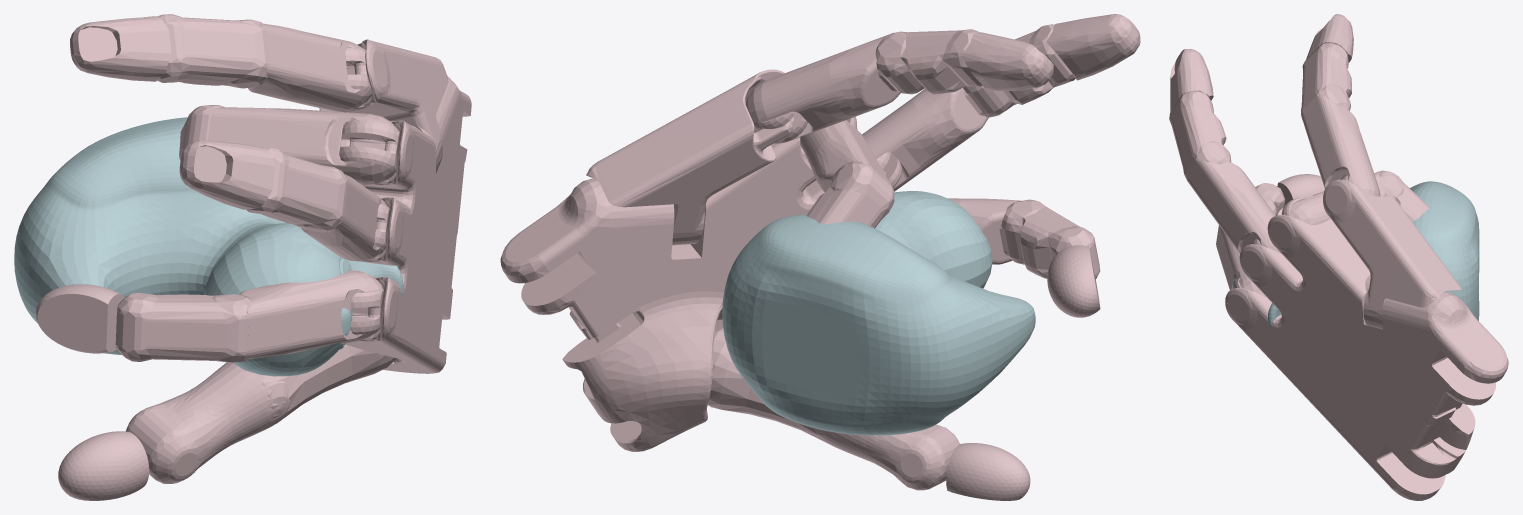
File: grasp_0.glb
3 views of the same model, side by side, from view 1: azimuth 30°, elevation 25°; view 2: azimuth 150°, elevation 25°; view 3: azimuth 270°, elevation 25° (orthographic). The views are drawn at different scales.
Visible parts, largest first — view 1: world; view 2: world; view 3: world.
Boxes of the visible parts, box(x1,y1,x2,y2) form: world: box(14, 14, 471, 500); world: box(500, 14, 1140, 500); world: box(1169, 14, 1508, 500).
Bounding box in the file's own units: 0.1737 × 0.151 × 0.1318.
